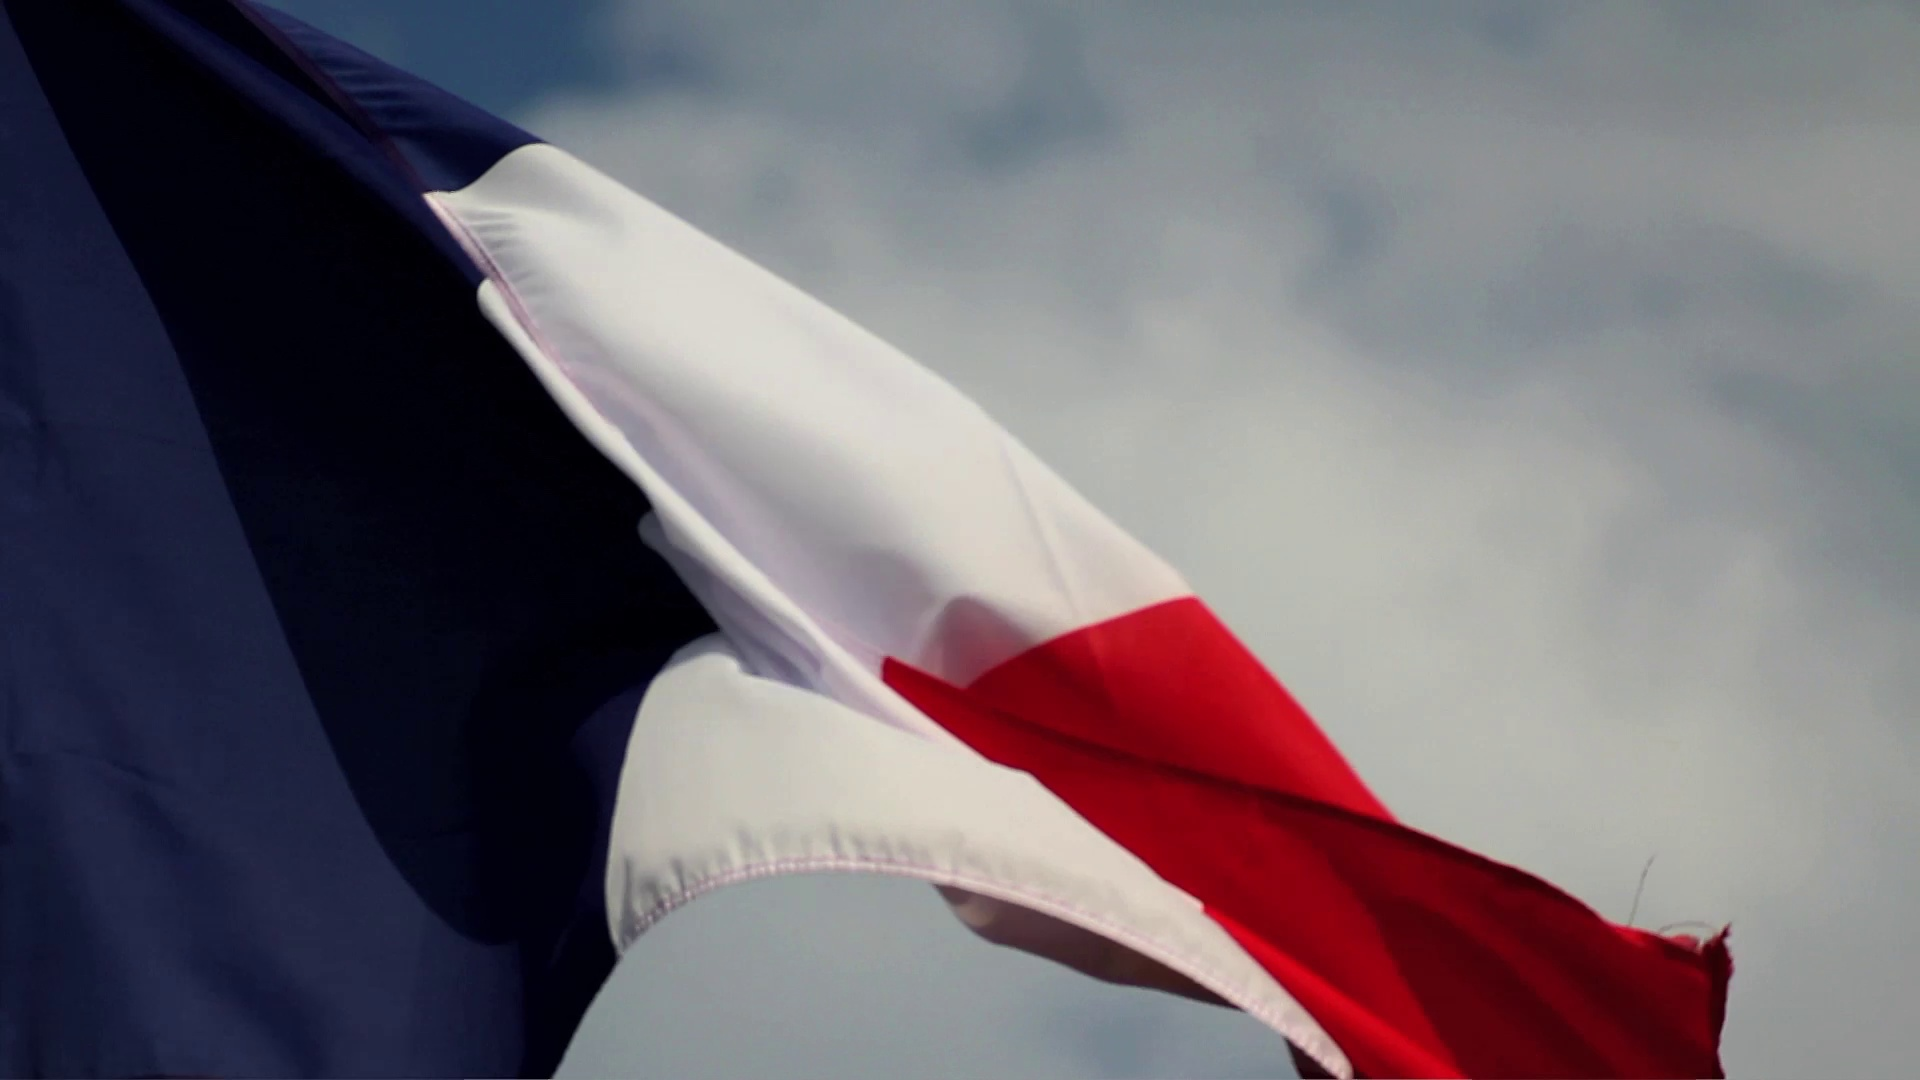French Flag: (1, 1, 1745, 1080)
